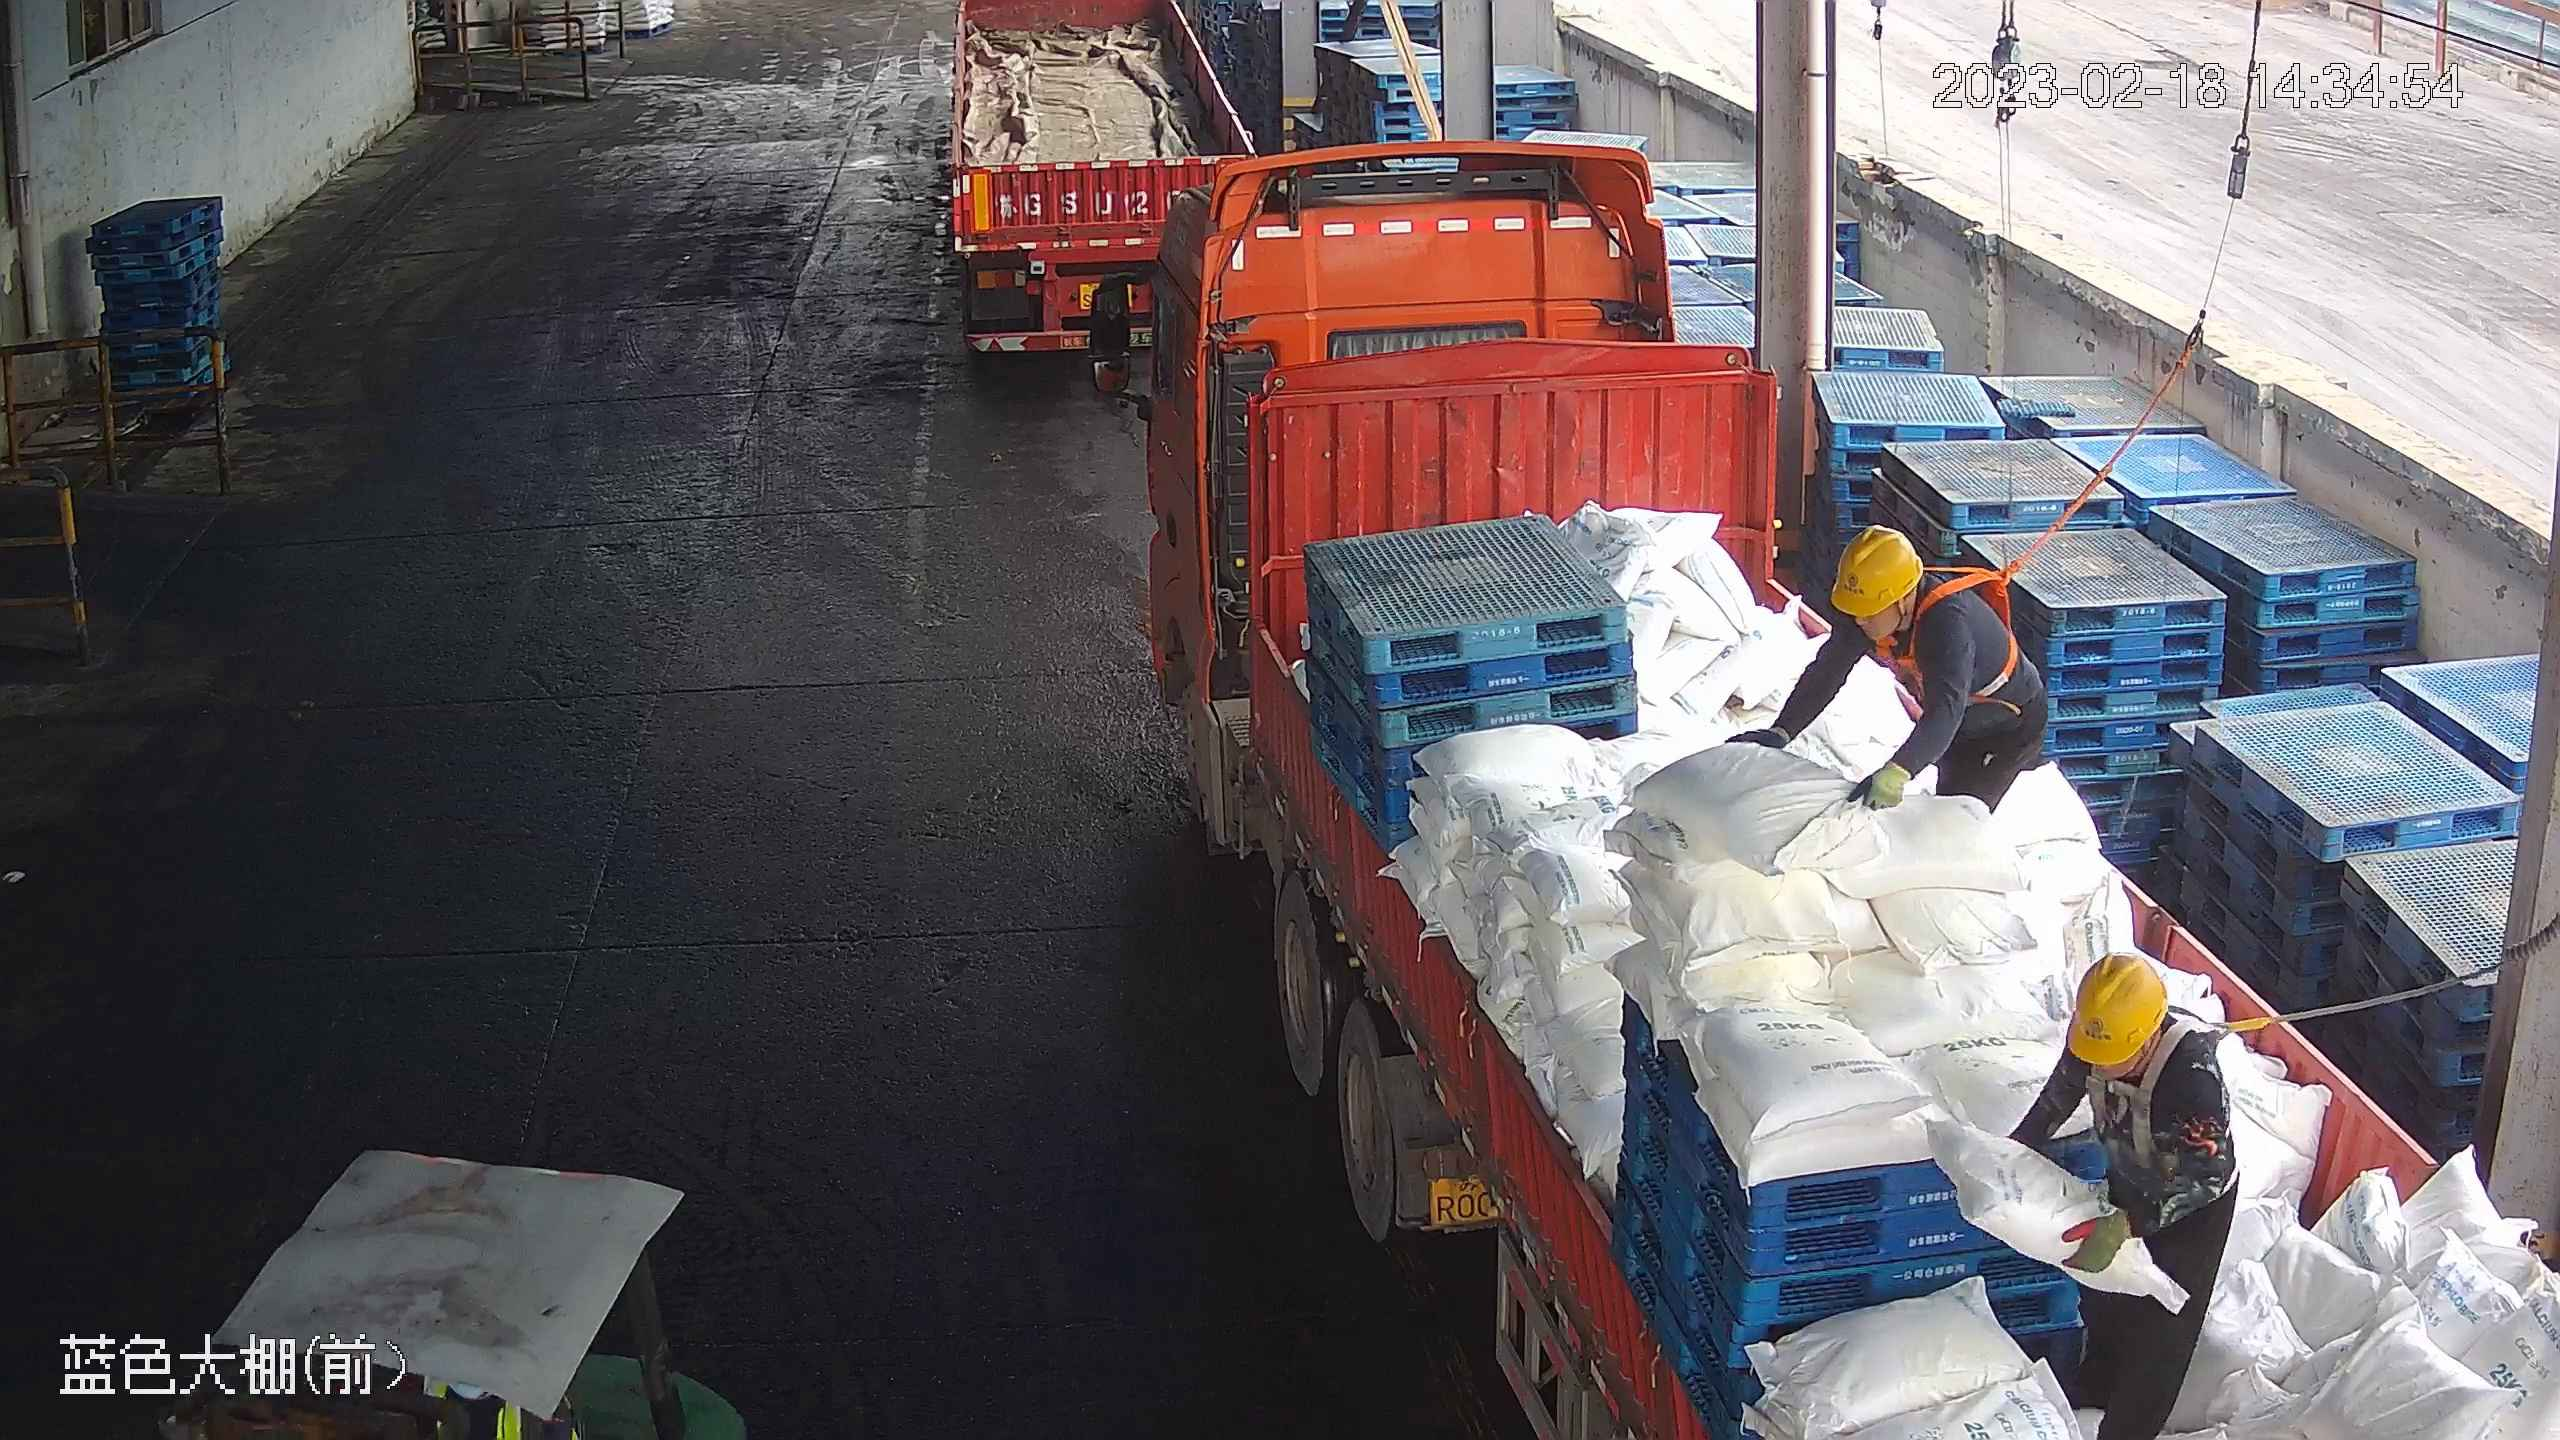belt: (1869, 559, 2022, 705), (2083, 1019, 2196, 1174)
head: (2043, 950, 2228, 1145), (1823, 525, 1996, 692)
helmet: (2066, 952, 2167, 1069), (1831, 525, 1924, 618)
people: (2010, 949, 2244, 1440), (1729, 525, 2049, 816)
truck: (1084, 133, 2560, 1440), (945, 1, 1269, 378)
